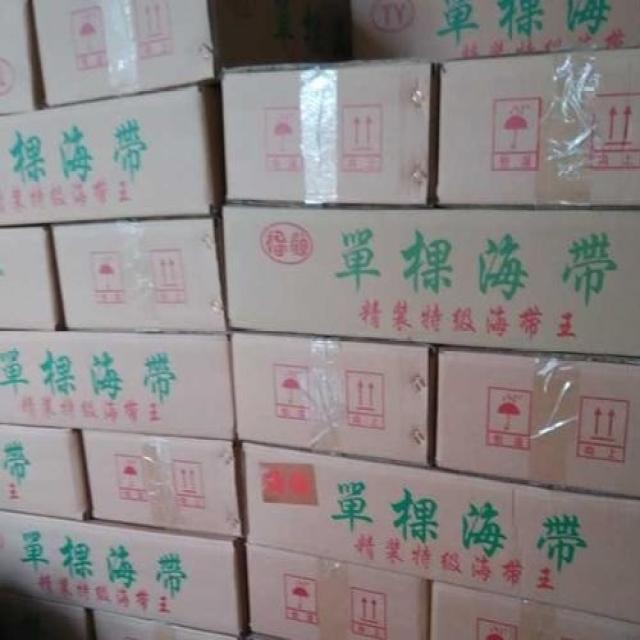box: (239, 441, 639, 623), (222, 201, 639, 361), (437, 50, 639, 211), (30, 1, 336, 107), (0, 82, 222, 224), (219, 63, 435, 206), (0, 511, 246, 636), (431, 347, 639, 494), (232, 332, 434, 466), (0, 329, 235, 441), (50, 202, 230, 332), (344, 1, 639, 61), (81, 429, 241, 537), (245, 546, 429, 639), (428, 581, 638, 638), (0, 424, 92, 523), (0, 225, 65, 330), (0, 2, 45, 116), (91, 611, 237, 639), (0, 593, 90, 638)
